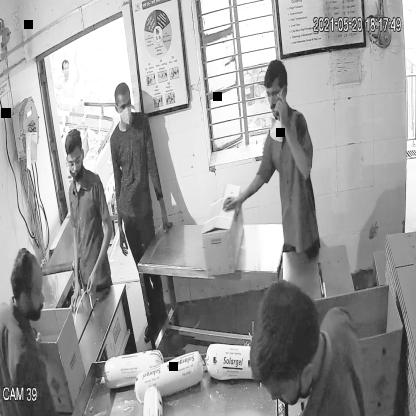goggles: (265, 86, 286, 107), (63, 151, 86, 170)
no_goggles: (114, 99, 134, 114)
